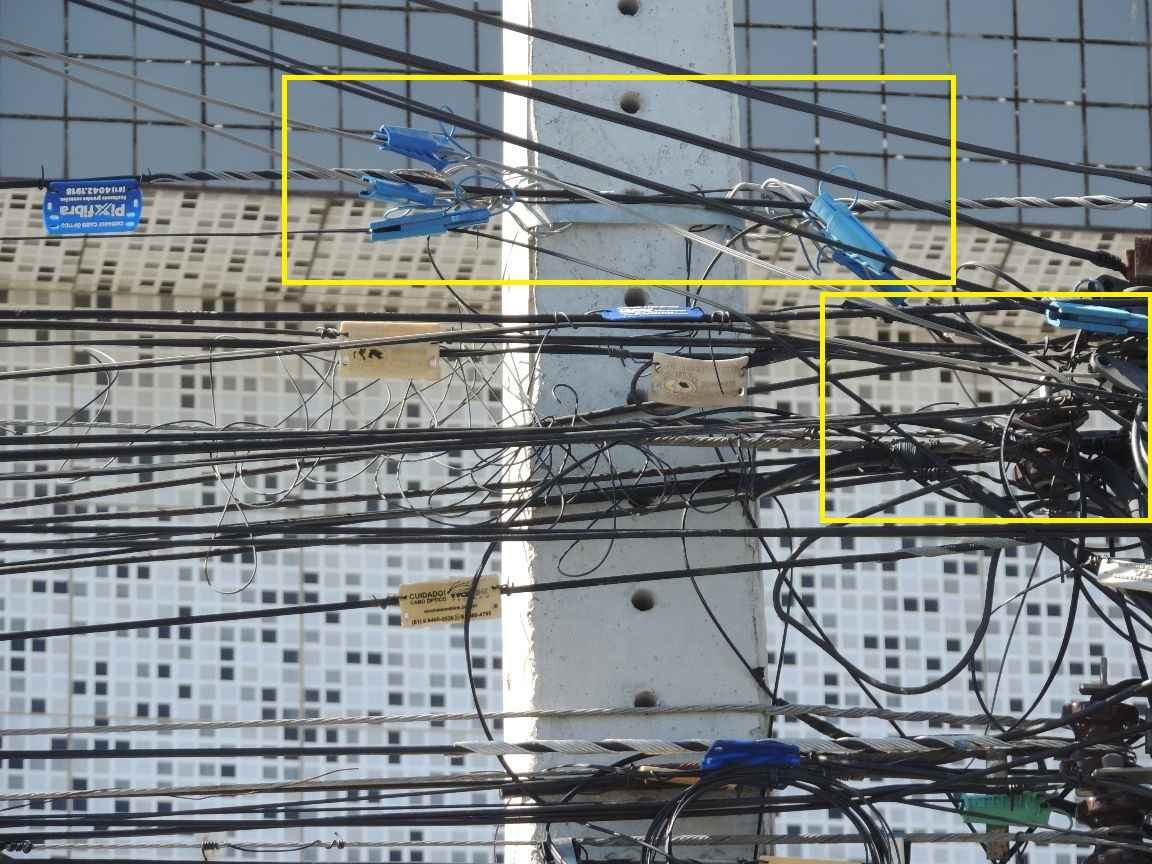drop: (724, 136, 923, 291), (338, 103, 509, 256), (1027, 305, 1151, 417), (927, 766, 1036, 832)
fibra_optica: (322, 315, 447, 384), (639, 344, 754, 419), (696, 727, 807, 792), (40, 172, 147, 234), (390, 577, 509, 630)
